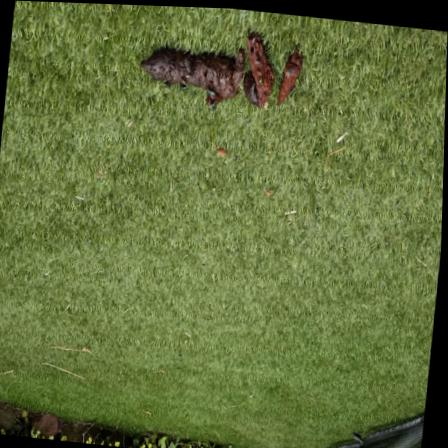dog-poop: (135, 23, 309, 121)
